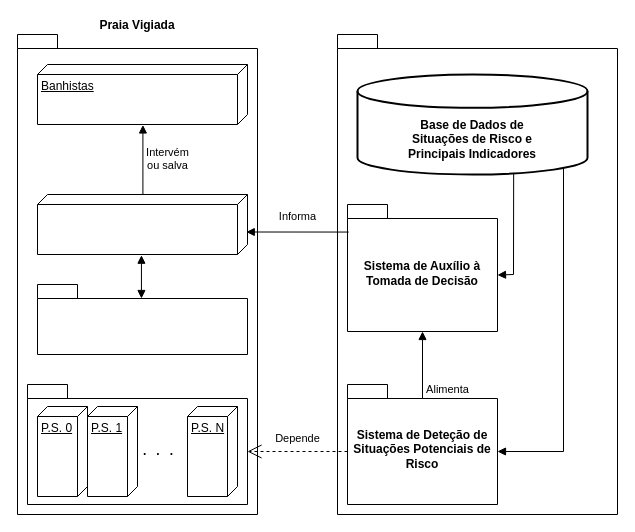
This 635x532 diagram has some shape labels left out. Each missing label, with the box of its shape:
Back End: (336, 34, 618, 514)
Meio de Comunicação: (36, 284, 248, 354)
Nadadores-salvadores: (36, 194, 248, 254)
Periféricos Sensoriais: (26, 384, 248, 504)
